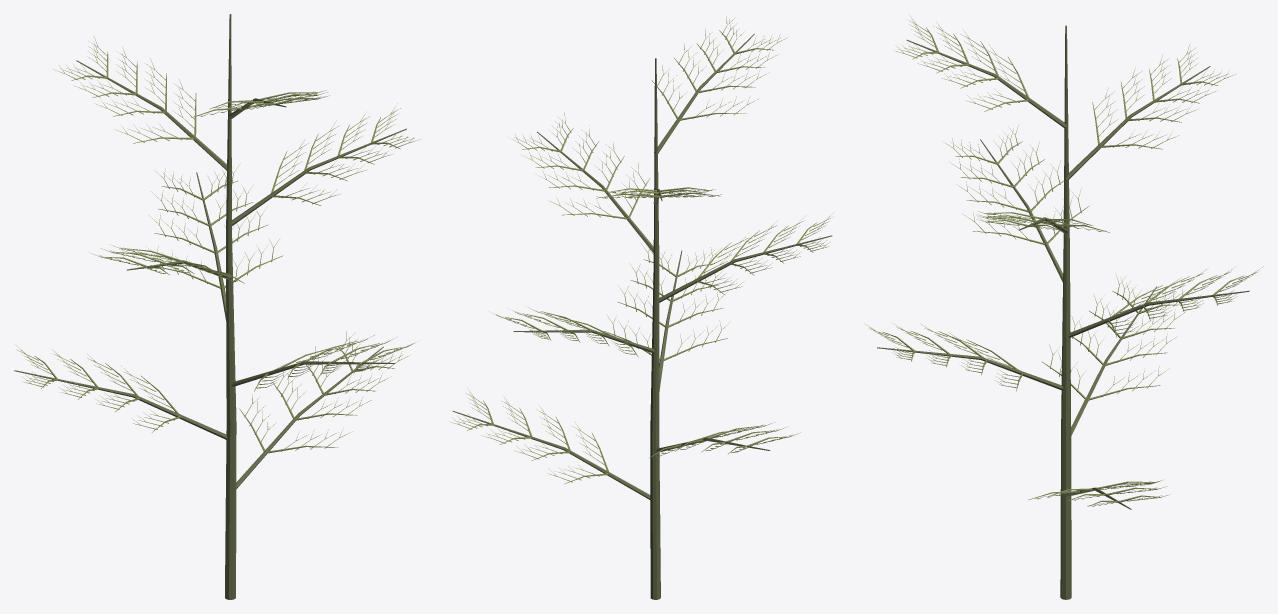
Rendered from independent-reexport.glb.
3 renders of one model, left to right at view 1: azimuth 30°, elevation 25°; view 2: azimuth 150°, elevation 25°; view 3: azimuth 270°, elevation 25°, orthographic. The views are drawn at different scales.
Parts seen in each view (by area): view 1: open-bipinnate-nonlaminate-framework; view 2: open-bipinnate-nonlaminate-framework; view 3: open-bipinnate-nonlaminate-framework.
Boxes of the visible parts, <box> form: open-bipinnate-nonlaminate-framework: <box>14,14,420,599</box>; open-bipinnate-nonlaminate-framework: <box>449,16,834,599</box>; open-bipinnate-nonlaminate-framework: <box>864,16,1263,599</box>.
Bounding box in the file's own units: 0.6737 × 1 × 0.6353.
